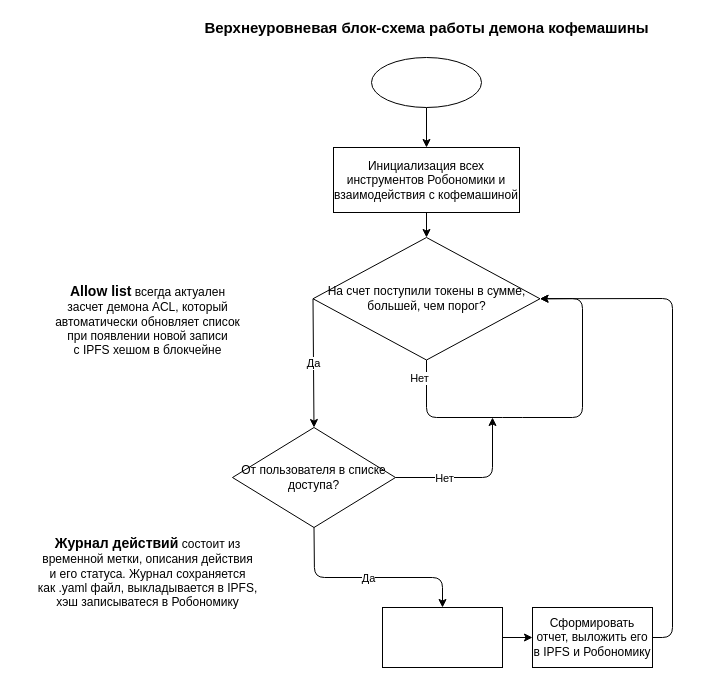
The diagram is 713 pixels wide and 685 high, and some of its shapes have lost their labels. The centre of each missing label's shape, as x and y in pixels:
Налить кофе: point (442, 637)
Пуск: point (426, 82)
